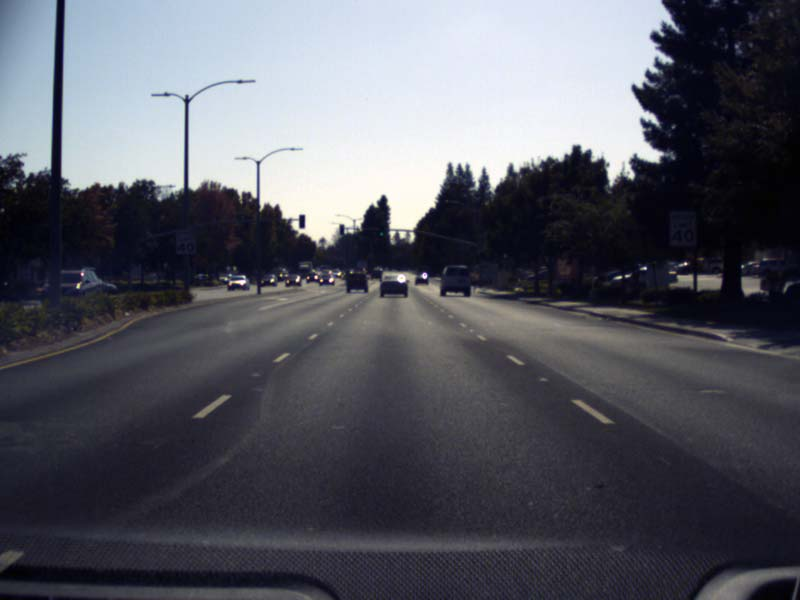Green: (378, 225, 384, 237), (501, 250, 508, 259), (479, 250, 484, 262)
Red: (339, 224, 344, 234)
